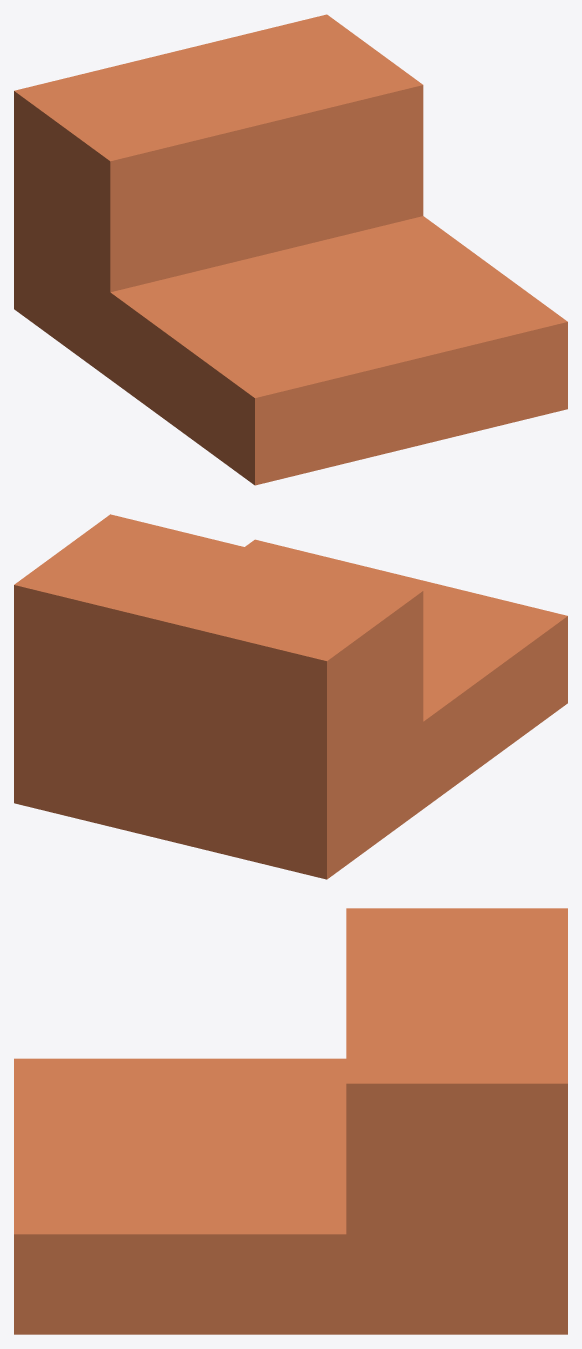
The model's file is tracer.glb.
The picture shows the model from 3 angles, top to bottom: view 1: azimuth 30°, elevation 25°; view 2: azimuth 150°, elevation 25°; view 3: azimuth 270°, elevation 25°; orthographic projection. The views are drawn at different scales.
Parts seen in each view (by area): view 1: tracer; view 2: tracer; view 3: tracer.
Boxes of the visible parts, bbox=[...] form: tracer: bbox=[14, 14, 567, 485]; tracer: bbox=[14, 514, 567, 879]; tracer: bbox=[14, 908, 567, 1334].
Bounding box in the file's own units: 1.5 × 1 × 2.
